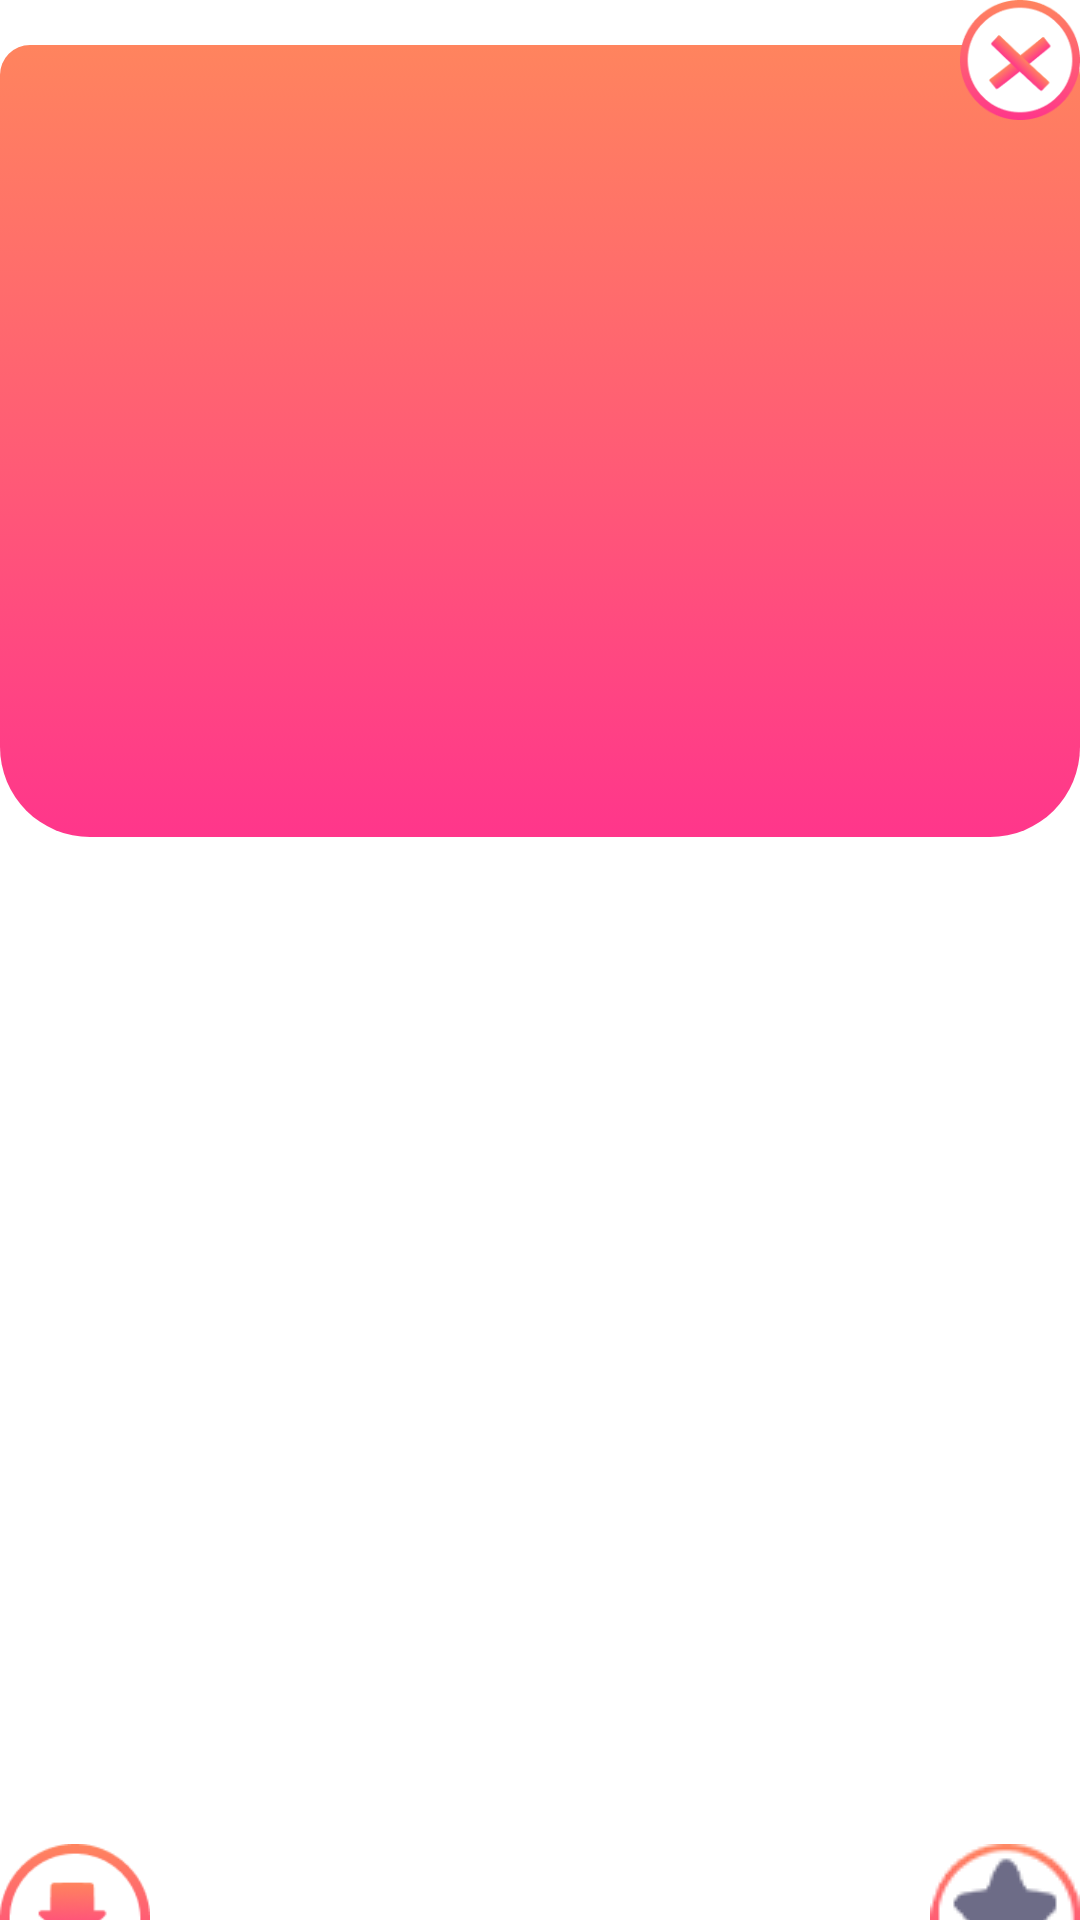

Where icons sit on this 1080 × 1920 app screen, as (x1, y1, x2, y2):
Cancel button: (960, 0, 1080, 120)
